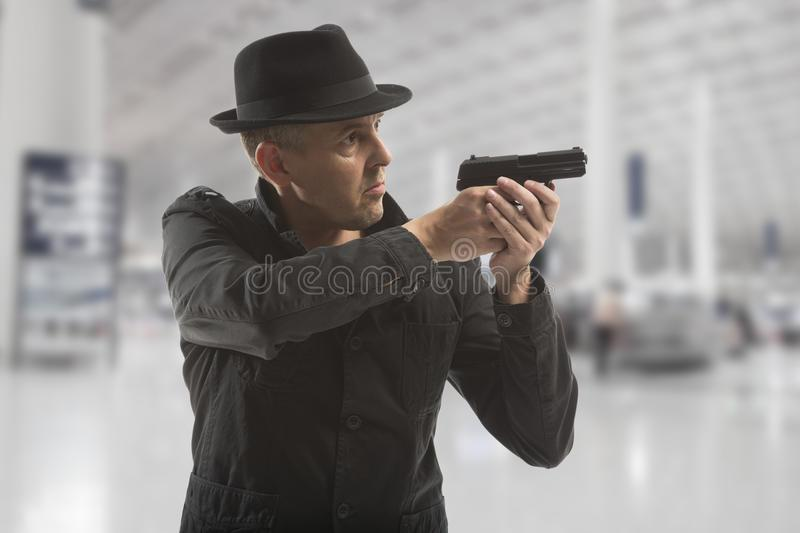criminal: (158, 20, 592, 533)
weapon: (451, 143, 593, 214)
